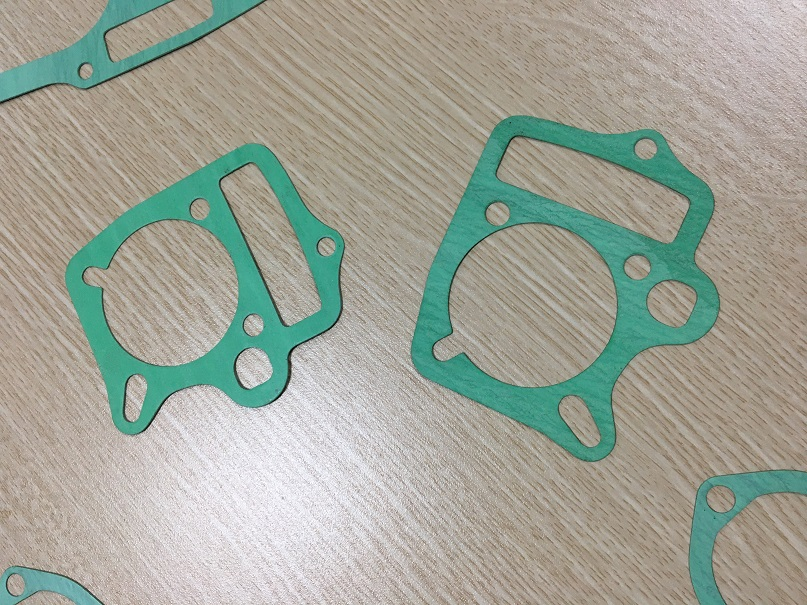type4: (398, 102, 731, 463), (55, 138, 357, 447)
